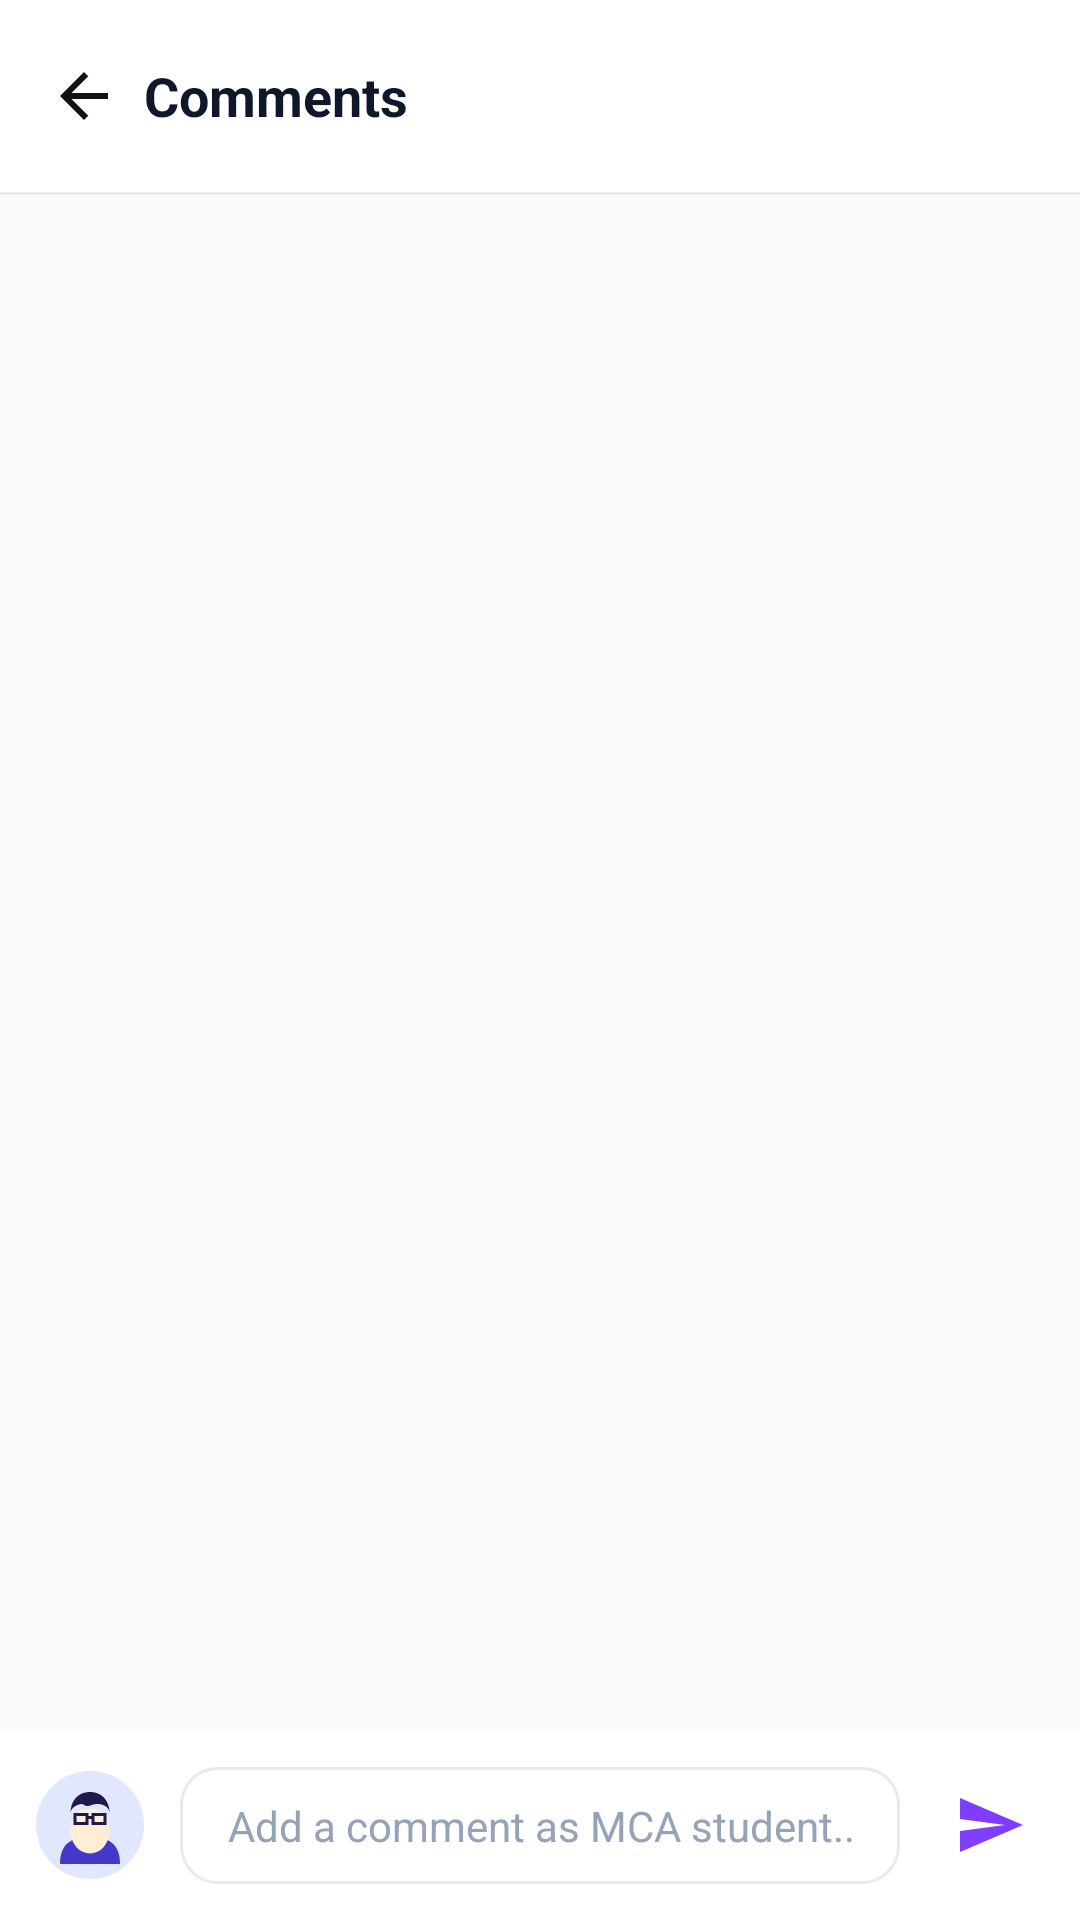

Where to tap for icons on this 1080×1920 app screen, as (x=x, y=y):
Go Back: (x=84, y=96)
send: (x=991, y=1825)
